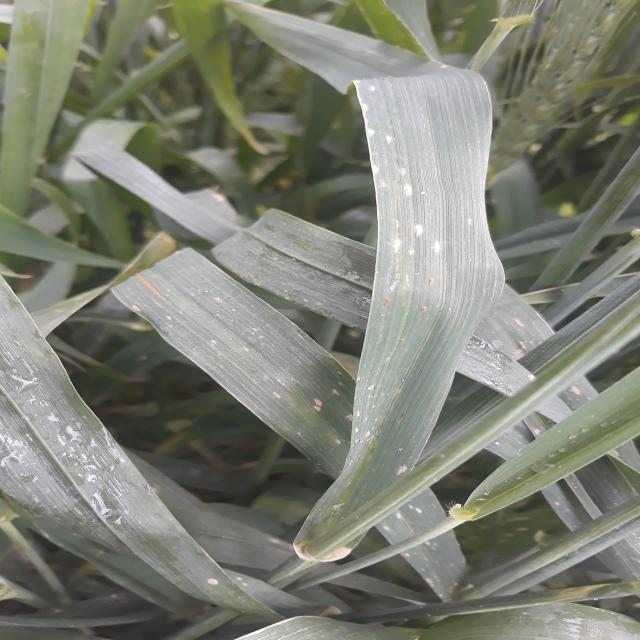orang_rust: (127, 275, 175, 299), (414, 302, 440, 318), (416, 276, 445, 289), (379, 293, 398, 309), (394, 335, 412, 347)
powder_mildew: (288, 74, 496, 566), (118, 301, 360, 454), (486, 296, 626, 465), (50, 562, 304, 640)
